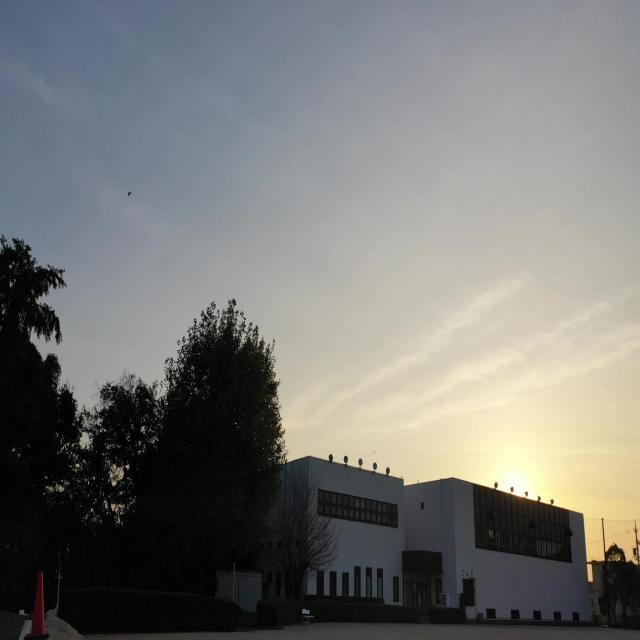Birds: (370, 448, 378, 456)
